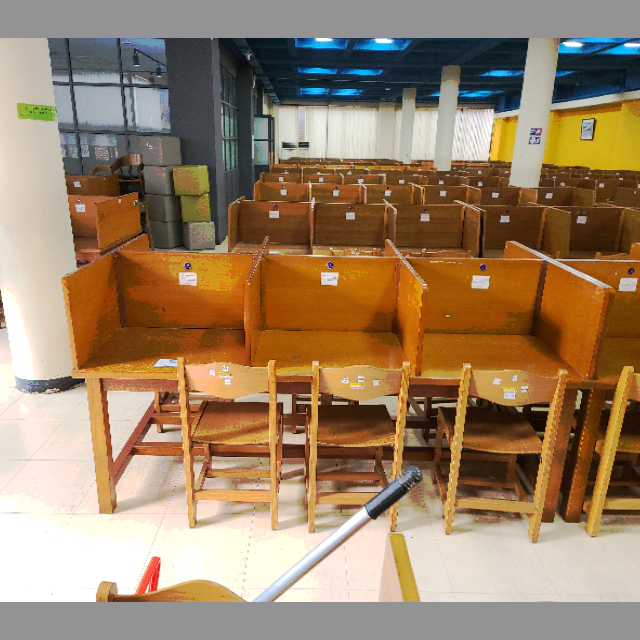empty: (423, 255, 602, 453), (58, 244, 248, 429), (252, 254, 416, 437)
